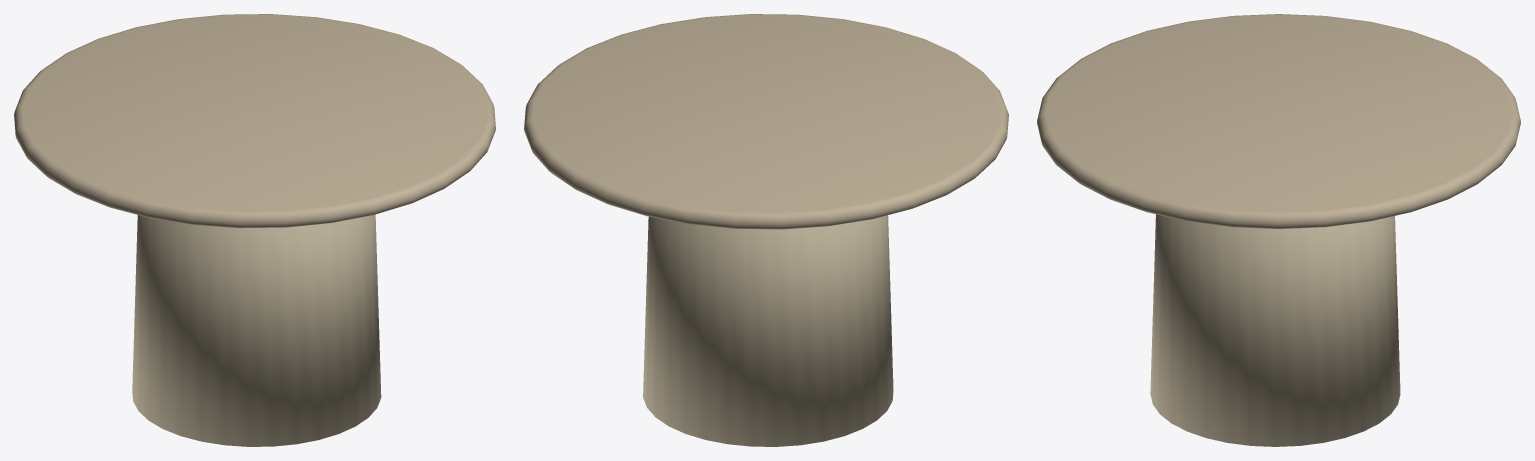
The model's file is ND-0935__Ethel_mesa31.glb.
3 renders of one model, left to right at view 1: azimuth 30°, elevation 25°; view 2: azimuth 150°, elevation 25°; view 3: azimuth 270°, elevation 25°, orthographic.
Visible parts, largest first — view 1: Cylinder, Cylinder.001; view 2: Cylinder, Cylinder.001; view 3: Cylinder, Cylinder.001.
Part boxes in pixels (x1,y1,x2,y2): Cylinder: (14,14,495,228); Cylinder.001: (132,214,381,446); Cylinder: (524,14,1008,229); Cylinder.001: (643,215,893,446); Cylinder: (1037,14,1520,228); Cylinder.001: (1150,214,1400,446).
Bounding box in the file's own units: 2 × 1.28 × 2.
